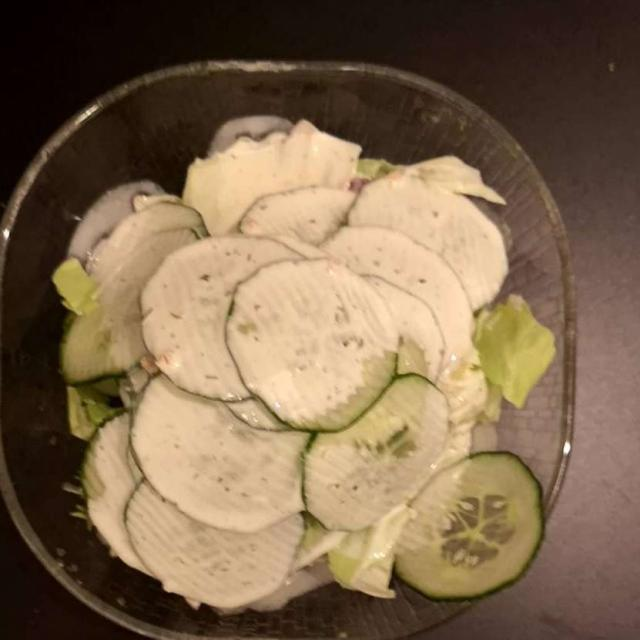cucumber: (59, 127, 536, 604)
salad: (98, 181, 516, 613)
